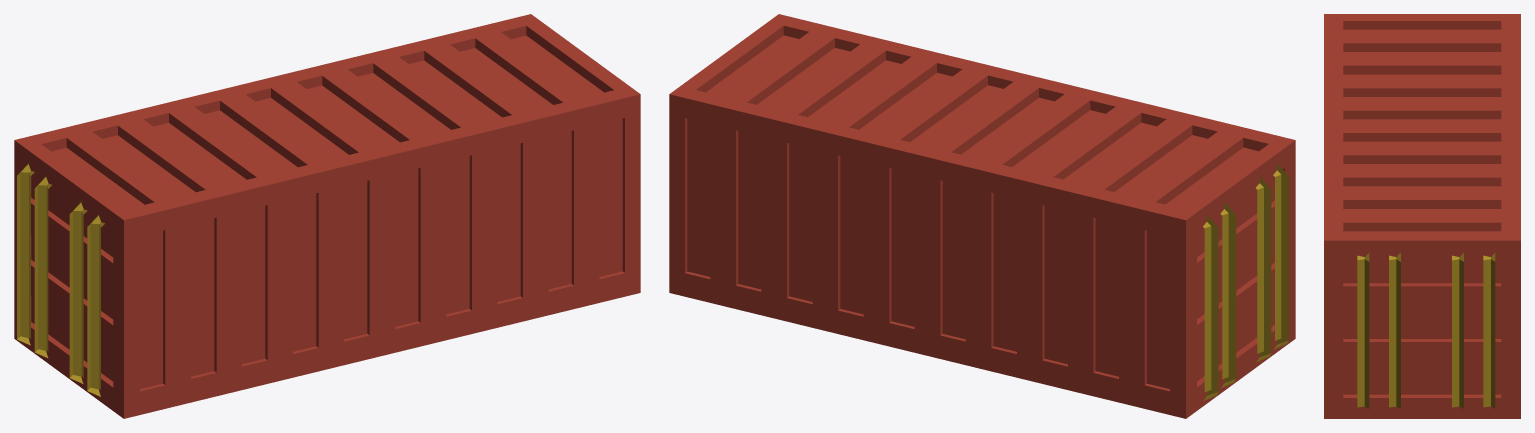
File: container_01.glb
3 views of the same model, side by side, from view 1: azimuth 30°, elevation 25°; view 2: azimuth 150°, elevation 25°; view 3: azimuth 270°, elevation 25° (orthographic). The views are drawn at different scales.
Parts seen in each view (by area): view 1: Container_01; view 2: Container_01; view 3: Container_01.
Boxes of the visible parts, bbox=[...] form: Container_01: bbox=[14, 14, 640, 418]; Container_01: bbox=[669, 14, 1295, 418]; Container_01: bbox=[1324, 14, 1520, 418].
Size of the model in its own units: 12.2 by 4.25 by 4.25.
